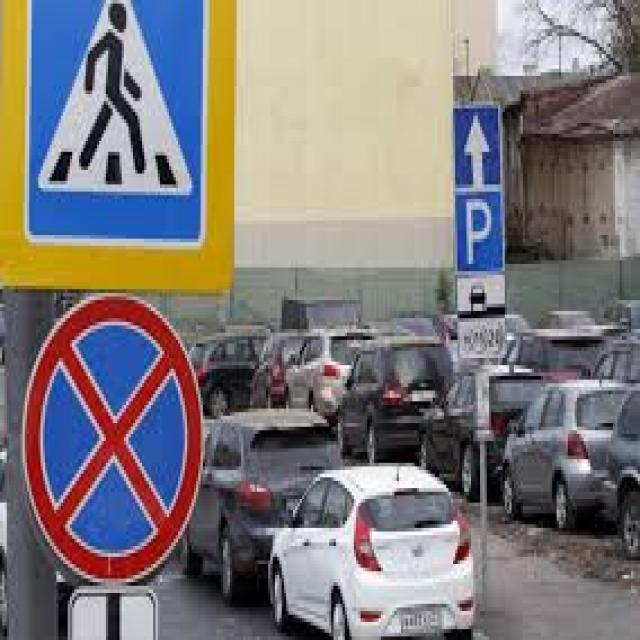no stopping: (20, 290, 206, 592)
parking: (452, 190, 507, 278)
